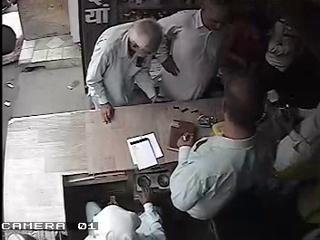Normal: (169, 70, 303, 240), (85, 18, 165, 125), (154, 0, 233, 102), (83, 182, 167, 240)
